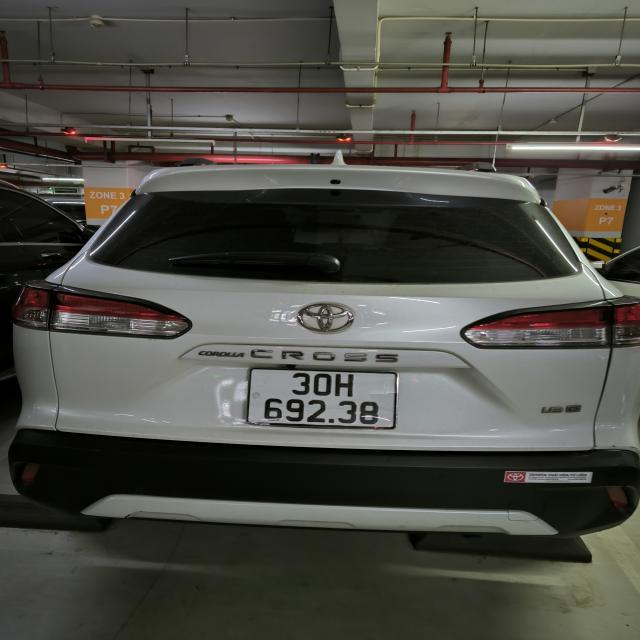license: (246, 367, 397, 429)
